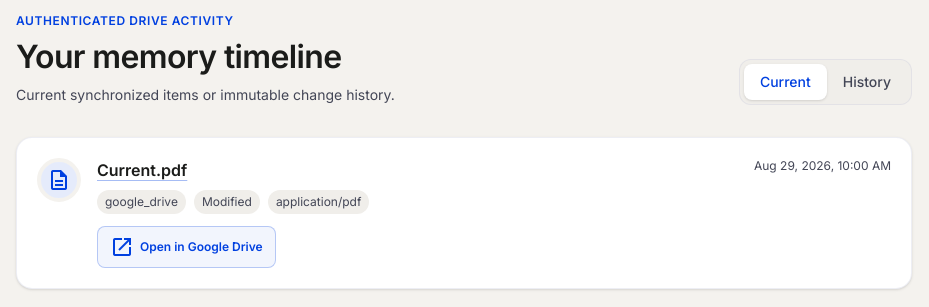
authenticated timeline › loads current memories and immutable history with bearer authentication
Expected: the heading "Current.pdf" is shown, [97,158,187,182]
Click the tab "history". click: click(867, 82)
box: [827,64,907,100]
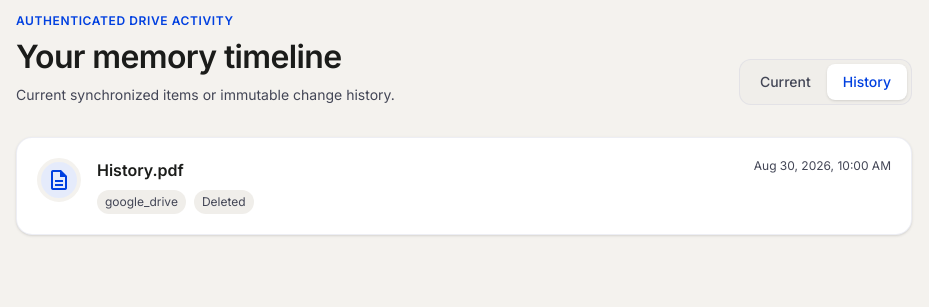
Expected: the heading "History.pdf" is shown, [97,158,184,182]
